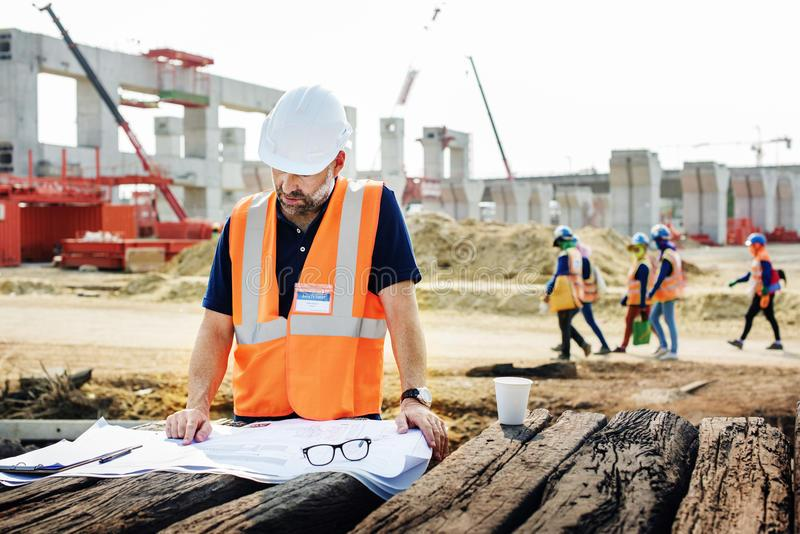helmet: (257, 85, 352, 177), (553, 226, 578, 247), (745, 232, 772, 251), (649, 224, 674, 243), (632, 232, 652, 250)
